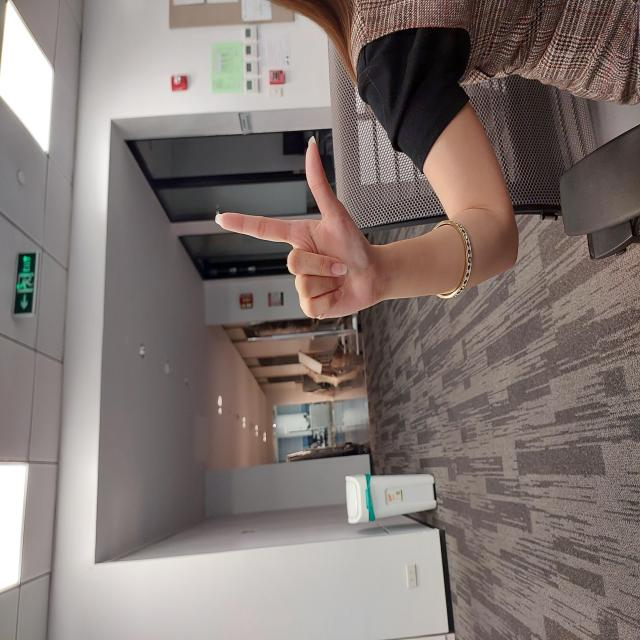L: (318, 214, 509, 380)
